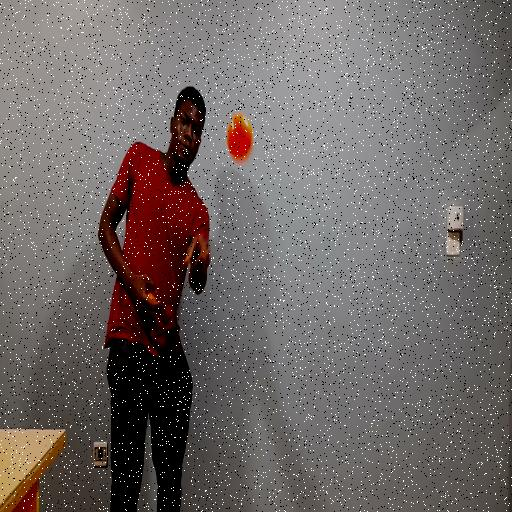plastic-ball: (224, 107, 257, 168)
